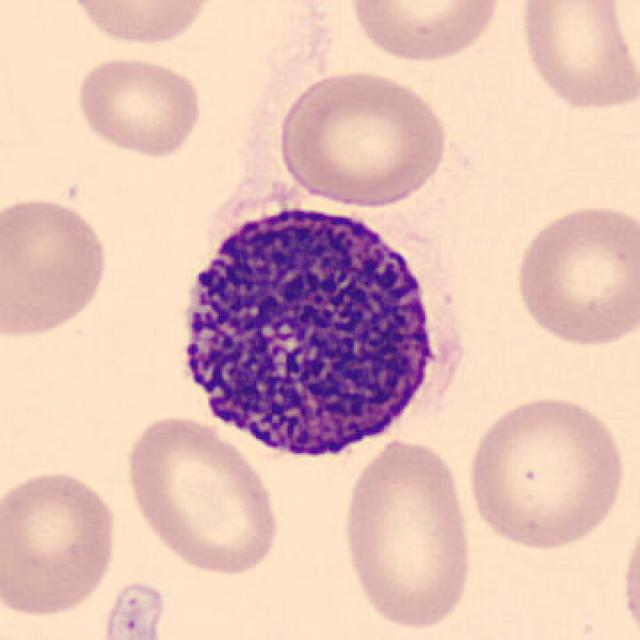Basophil: (160, 182, 471, 476)
RBC: (338, 434, 478, 633), (119, 411, 285, 578), (462, 390, 630, 555), (274, 65, 452, 210), (508, 199, 638, 351), (0, 466, 121, 622), (0, 192, 112, 342), (71, 51, 206, 161), (514, 0, 640, 115), (343, 0, 507, 65), (60, 0, 222, 49), (617, 502, 640, 640)
